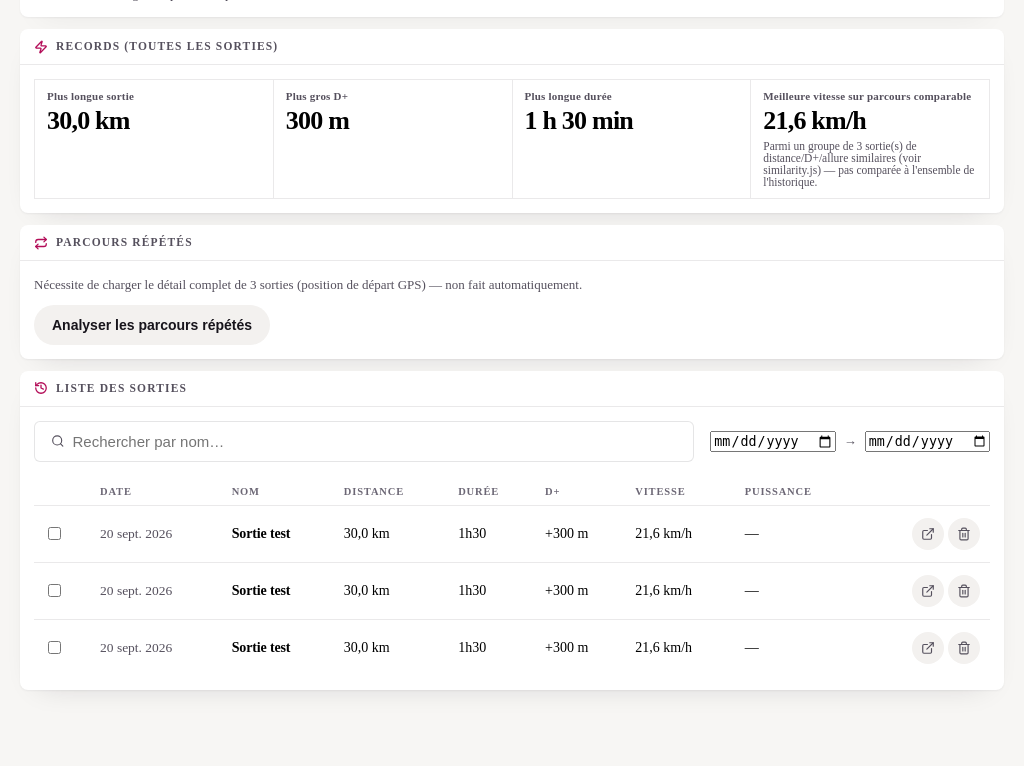
Test: HistoryDashboard — comparaison de deux sorties › le bouton Comparer reste désactivé tant que 2 sorties exactement ne sont pas sélectionnées
The image size is (1024, 766).
(page scrolled)
Click the 1st checkbox named "Sélectionner Sortie test pour comparer" at (54, 533), box [48,527,61,540]
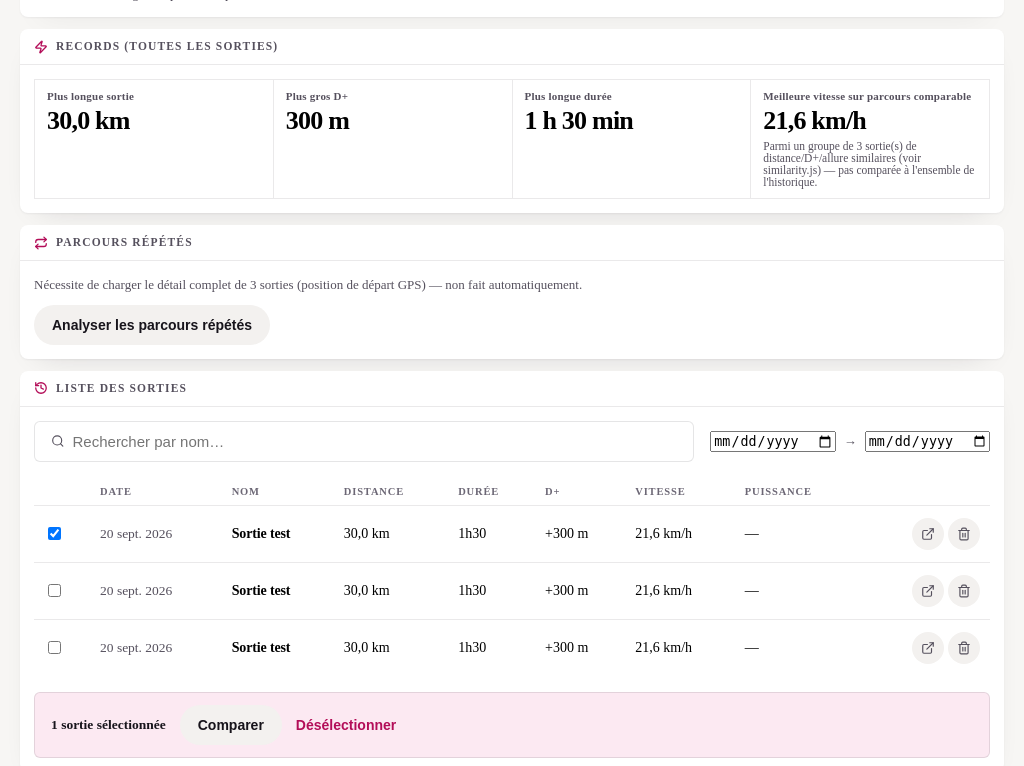
Expected: the button "Comparer" is disabled, [180,705,282,745]
